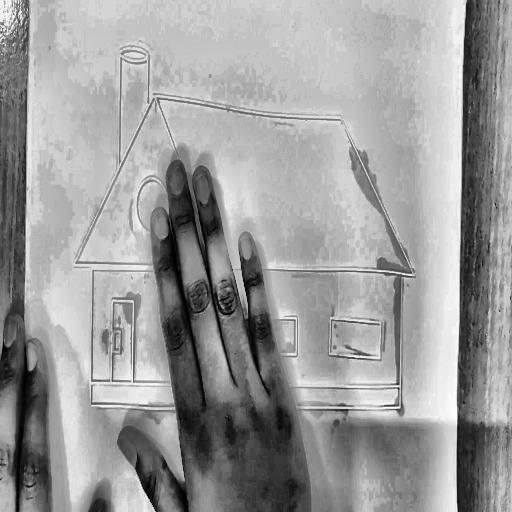house: (64, 29, 426, 434)
